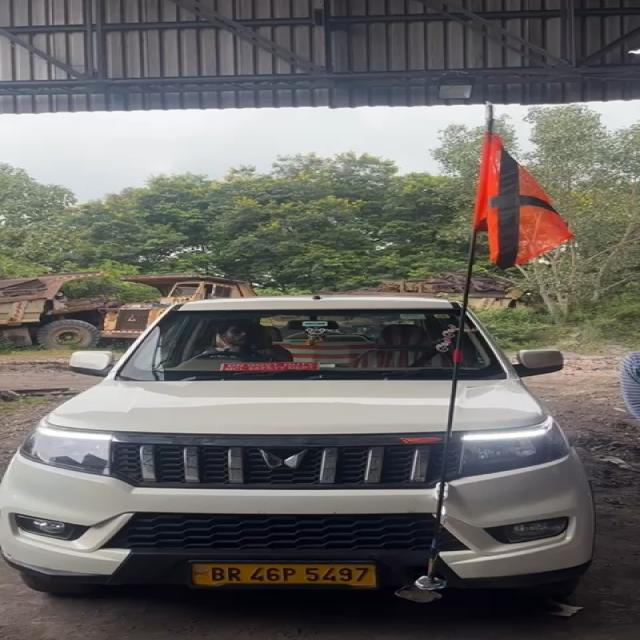light_vehicle: (9, 294, 605, 594)
